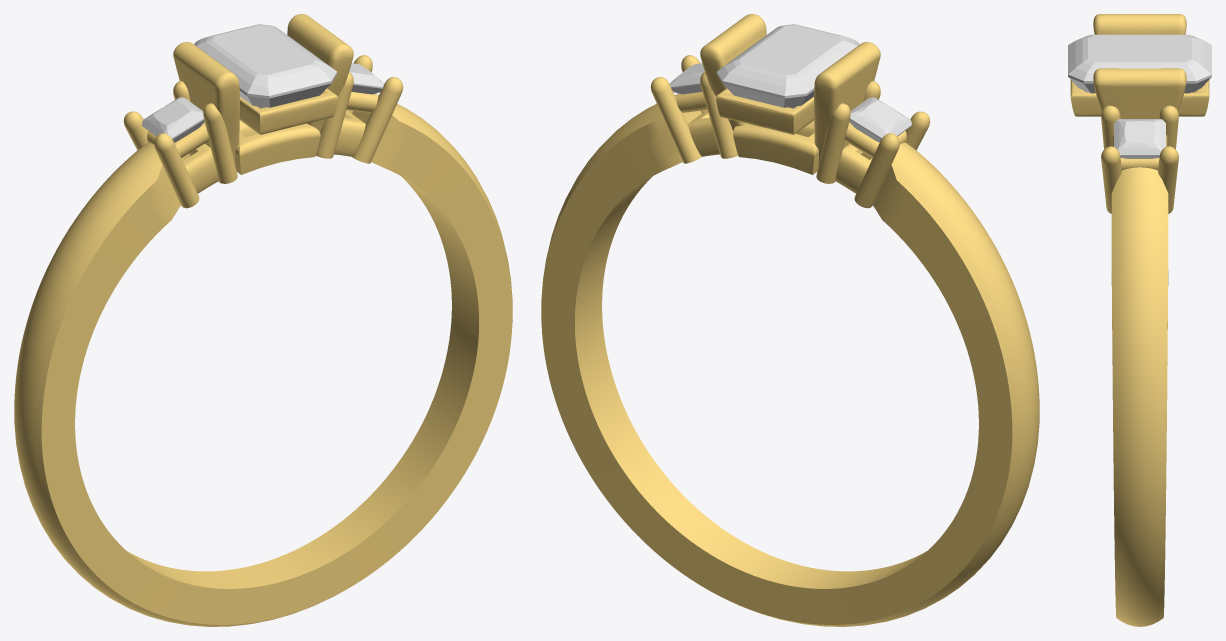
The model's file is Peter_&_Carina_em v1.glb.
3 views of the same model, side by side, from view 1: azimuth 30°, elevation 25°; view 2: azimuth 150°, elevation 25°; view 3: azimuth 270°, elevation 25° (orthographic). The views are drawn at different scales.
Parts seen in each view (by area): view 1: em version 1 YG for 3d model.016, em version 1 dia for 3d model, em version 1 YG for 3d model.013, em version 1 YG for 3d model.015, em version 1 YG for 3d model.012, em version 1 YG for 3d model.014, em version 1 YG for 3d model.003, em version 1 dia for 3d model.001, em version 1 YG for 3d model.009, em version 1 YG for 3d model.010, em version 1 YG for 3d model.004, em version 1 YG for 3d model.007 (+3 smaller); view 2: em version 1 YG for 3d model.016, em version 1 dia for 3d model, em version 1 YG for 3d model.013, em version 1 YG for 3d model.015, em version 1 YG for 3d model.012, em version 1 YG for 3d model.014, em version 1 YG for 3d model.002, em version 1 dia for 3d model.001, em version 1 YG for 3d model.008, em version 1 YG for 3d model.011, em version 1 YG for 3d model.005, em version 1 YG for 3d model.007 (+3 smaller); view 3: em version 1 YG for 3d model.016, em version 1 dia for 3d model, em version 1 YG for 3d model.014, em version 1 dia for 3d model.002, em version 1 YG for 3d model.013, em version 1 YG for 3d model.012, em version 1 YG for 3d model.002, em version 1 YG for 3d model.003, em version 1 YG for 3d model.004, em version 1 YG for 3d model.005, em version 1 YG for 3d model.
Part boxes in pixels (bbox=[...]): em version 1 YG for 3d model.016: bbox=[14, 94, 512, 626]; em version 1 dia for 3d model: bbox=[194, 24, 337, 108]; em version 1 YG for 3d model.013: bbox=[173, 42, 239, 164]; em version 1 YG for 3d model.015: bbox=[235, 120, 320, 174]; em version 1 YG for 3d model.012: bbox=[239, 88, 337, 134]; em version 1 YG for 3d model.014: bbox=[287, 14, 353, 132]; em version 1 YG for 3d model.003: bbox=[352, 77, 403, 163]; em version 1 dia for 3d model.001: bbox=[142, 97, 204, 142]; em version 1 YG for 3d model.009: bbox=[154, 133, 199, 208]; em version 1 YG for 3d model.010: bbox=[203, 103, 237, 183]; em version 1 YG for 3d model.004: bbox=[315, 72, 353, 158]; em version 1 YG for 3d model.007: bbox=[181, 143, 218, 193]; em version 1 YG for 3d model.016: bbox=[541, 94, 1039, 626]; em version 1 dia for 3d model: bbox=[716, 24, 859, 108]; em version 1 YG for 3d model.013: bbox=[814, 42, 880, 164]; em version 1 YG for 3d model.015: bbox=[733, 120, 818, 174]; em version 1 YG for 3d model.012: bbox=[716, 88, 814, 134]; em version 1 YG for 3d model.014: bbox=[700, 14, 766, 130]; em version 1 YG for 3d model.002: bbox=[650, 77, 701, 163]; em version 1 dia for 3d model.001: bbox=[849, 97, 911, 142]; em version 1 YG for 3d model.008: bbox=[854, 133, 899, 208]; em version 1 YG for 3d model.011: bbox=[816, 103, 850, 183]; em version 1 YG for 3d model.005: bbox=[700, 72, 738, 158]; em version 1 YG for 3d model.007: bbox=[835, 143, 872, 193]; em version 1 YG for 3d model.016: bbox=[1111, 167, 1168, 626]; em version 1 dia for 3d model: bbox=[1068, 34, 1211, 93]; em version 1 YG for 3d model.014: bbox=[1093, 68, 1186, 118]; em version 1 dia for 3d model.002: bbox=[1114, 119, 1165, 158]; em version 1 YG for 3d model.013: bbox=[1093, 14, 1186, 34]; em version 1 YG for 3d model.012: bbox=[1070, 80, 1209, 116]; em version 1 YG for 3d model.002: bbox=[1158, 146, 1178, 213]; em version 1 YG for 3d model.003: bbox=[1101, 146, 1121, 213]; em version 1 YG for 3d model.004: bbox=[1101, 105, 1120, 149]; em version 1 YG for 3d model.005: bbox=[1159, 105, 1178, 149]; em version 1 YG for 3d model: bbox=[1112, 135, 1167, 170].
Bounding box in the file's own units: 21.13 × 23.82 × 5.55.
